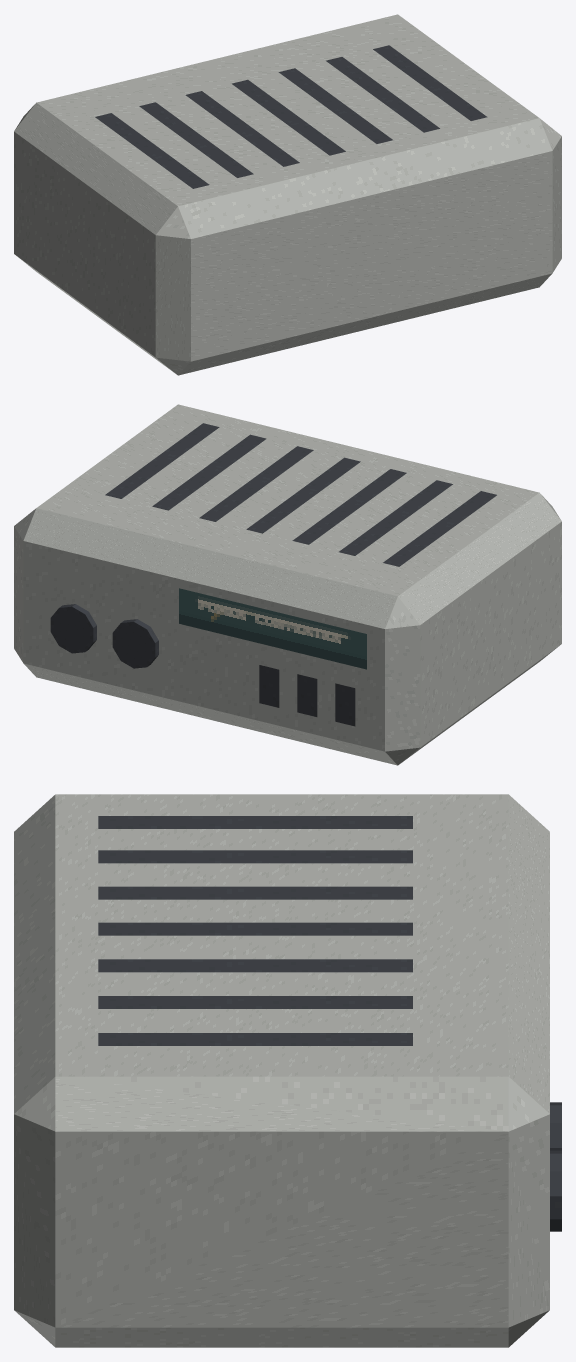
The model's file is power_supply.glb.
The picture shows the model from 3 angles, top to bottom: view 1: azimuth 30°, elevation 25°; view 2: azimuth 150°, elevation 25°; view 3: azimuth 270°, elevation 25°; orthographic projection. The views are drawn at different scales.
Visible parts, largest first — view 1: block_enclosure, block_case louvers (×7); view 2: block_enclosure, block_case louvers (×7), block_voltage and status, block_socket recess (×2), block_air vent (×3); view 3: block_enclosure, block_case louvers (×7), block_socket recess.
Boxes of the visible parts, box(x1,y1,x2,y2) form: block_enclosure: box(14, 14, 561, 375); block_case louvers (×7): box(95, 45, 487, 188); block_enclosure: box(14, 404, 561, 765); block_case louvers (×7): box(105, 423, 496, 566); block_voltage and status: box(179, 588, 366, 669); block_socket recess (×2): box(50, 604, 158, 668); block_air vent (×3): box(259, 665, 355, 726); block_enclosure: box(14, 794, 549, 1347); block_case louvers (×7): box(98, 816, 412, 1045); block_socket recess: box(550, 1150, 561, 1231).
Size of the model in its own units: 0.188 by 0.0751 by 0.1373.
Materials: 1 (1 with a texture image).
